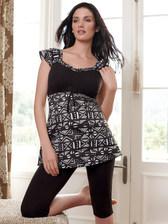clothoes: (30, 45, 125, 172)
